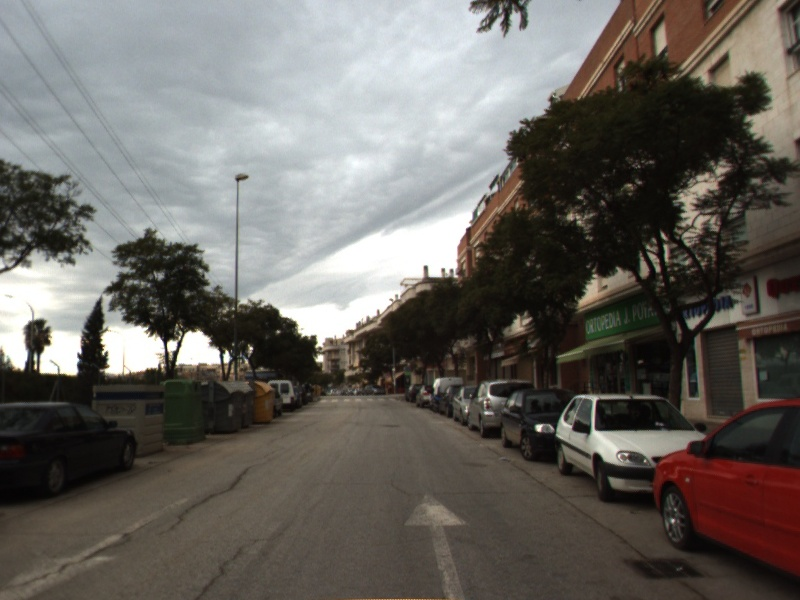STRAIGHT: (401, 488, 473, 600)
